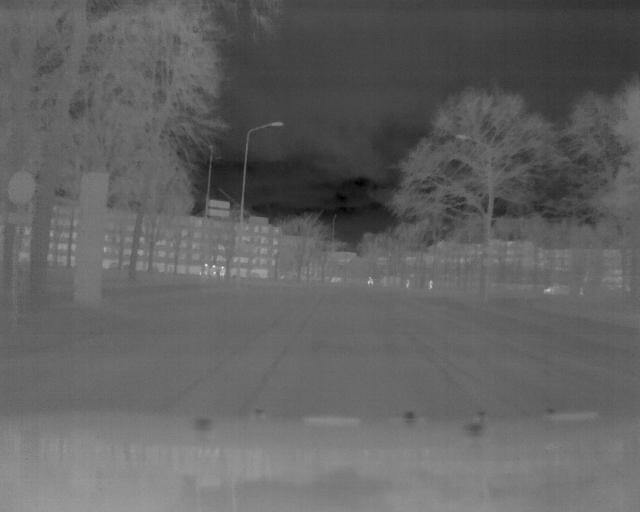person: (210, 263, 218, 280), (219, 264, 226, 280), (203, 262, 209, 278)
